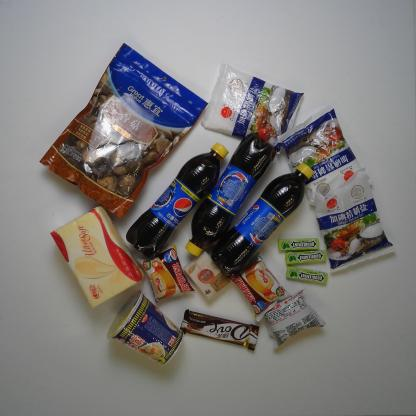Chocolate: (180, 309, 260, 352)
Dessert: (227, 251, 293, 324), (136, 243, 196, 308), (264, 289, 326, 349)
Dried Food: (38, 42, 209, 221)
Drink: (126, 141, 230, 259), (210, 162, 314, 278), (185, 134, 276, 258)
Gum: (286, 266, 328, 284), (285, 250, 327, 264), (278, 238, 319, 251)
Instant Noodles: (107, 289, 185, 366)
Seasoner: (276, 104, 373, 208), (200, 62, 304, 156), (314, 166, 396, 275)
Tissue: (48, 204, 146, 310), (183, 249, 231, 301)
